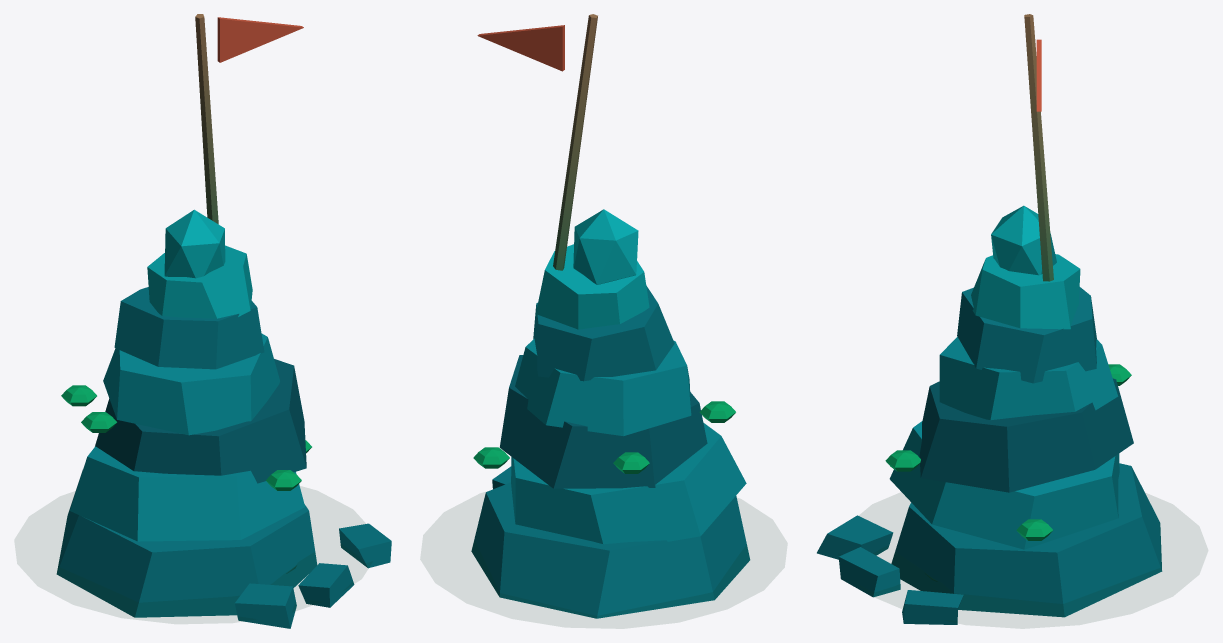
The model's file is cairn.glb.
3 views of the same model, side by side, from view 1: azimuth 30°, elevation 25°; view 2: azimuth 150°, elevation 25°; view 3: azimuth 270°, elevation 25° (orthographic).
Visible parts, largest first — view 1: cairn; view 2: cairn; view 3: cairn.
Part boxes in pixels (bbox=[...]): cairn: bbox=[56, 14, 391, 628]; cairn: bbox=[471, 14, 750, 618]; cairn: bbox=[817, 14, 1162, 624].
Size of the model in its own units: 0.9 by 1.49 by 0.9492.
